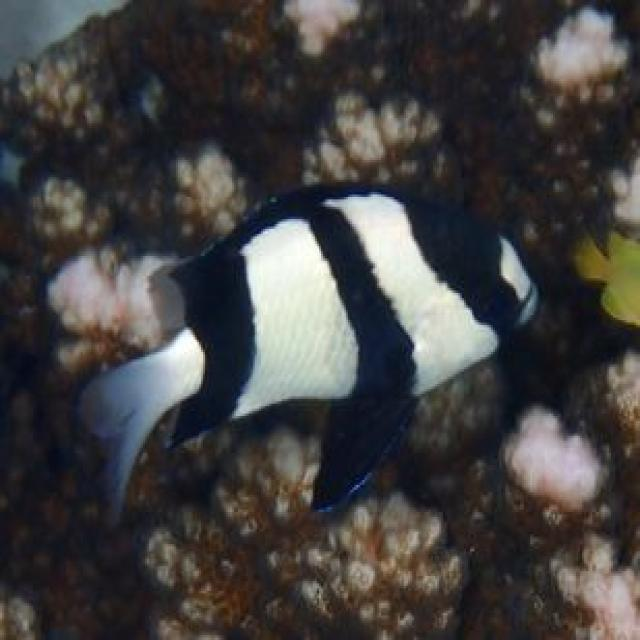ThreeStripedDamselfish: (72, 182, 543, 534)
